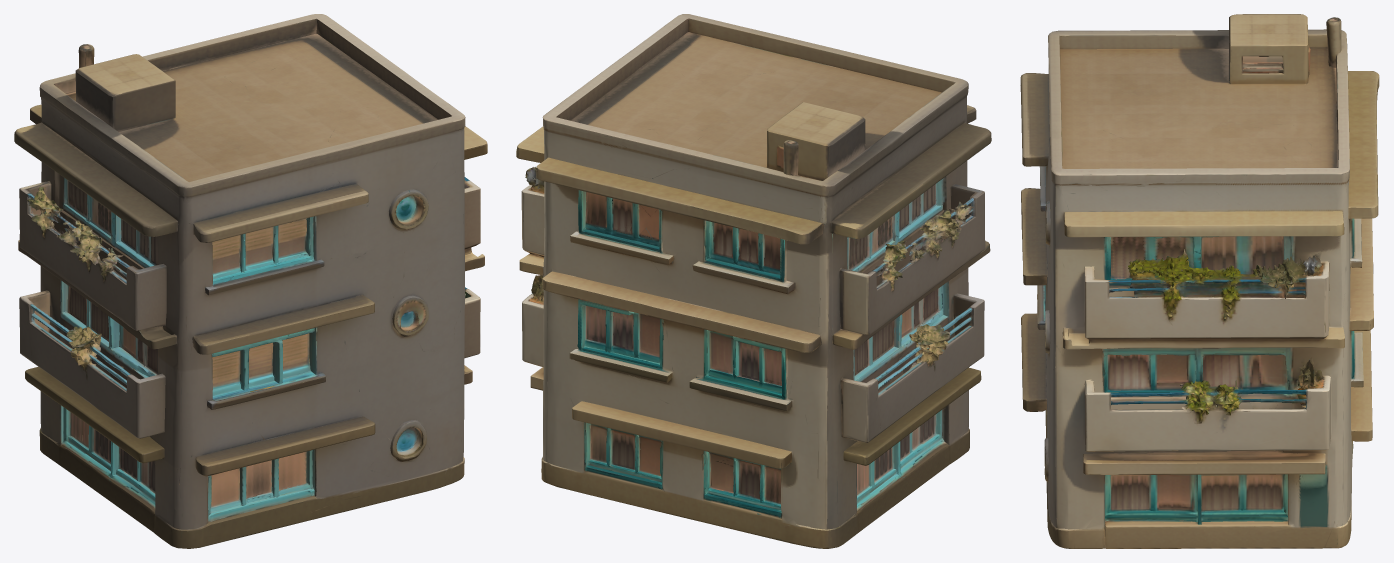
The model's file is bld_bauhaus_d.glb.
3 renders of one model, left to right at view 1: azimuth 30°, elevation 25°; view 2: azimuth 150°, elevation 25°; view 3: azimuth 270°, elevation 25°, orthographic. The views are drawn at different scales.
Parts seen in each view (by area): view 1: geometry_0; view 2: geometry_0; view 3: geometry_0.
Boxes of the visible parts, bbox=[...] form: geometry_0: bbox=[14, 14, 487, 548]; geometry_0: bbox=[516, 14, 991, 548]; geometry_0: bbox=[1020, 14, 1379, 548].
Size of the model in its own units: 10.95 by 11 by 8.84.
1 material, 1 textured.
